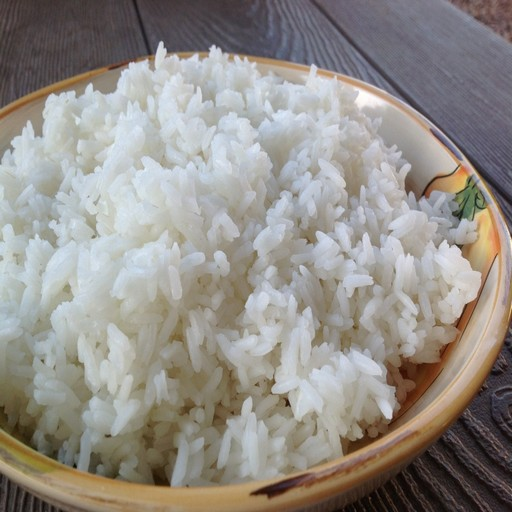rice: (55, 129, 341, 418)
